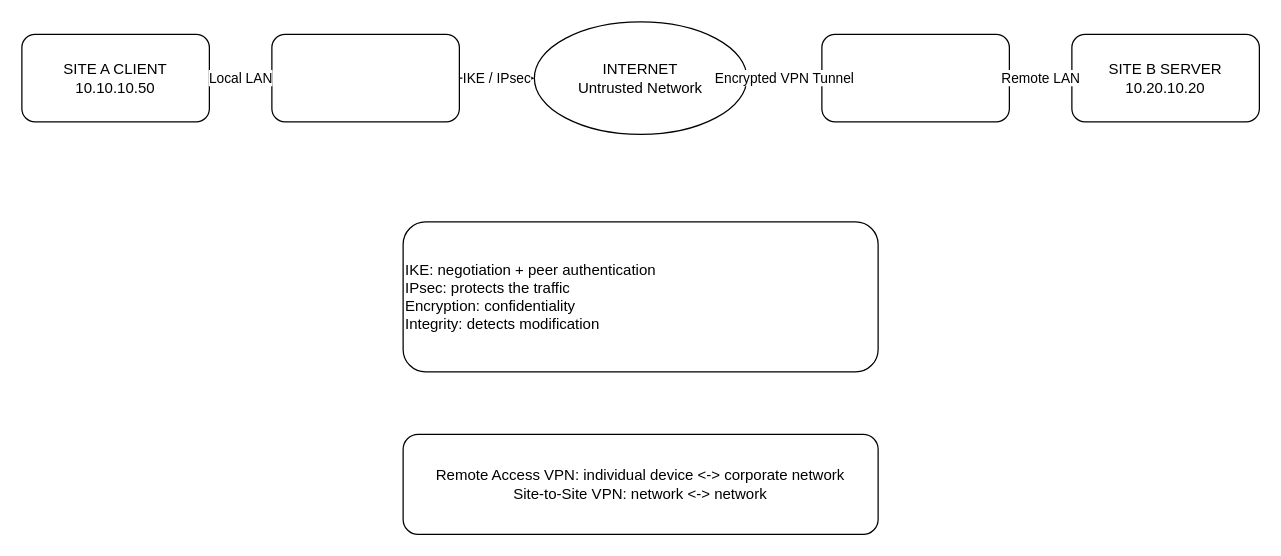
This 1281x556 diagram has some shape labels left out. Each missing label, with the centre of its shape:
FIREWALL A VPN Gateway: the point at 365,77
FIREWALL B VPN Gateway: the point at 915,77
